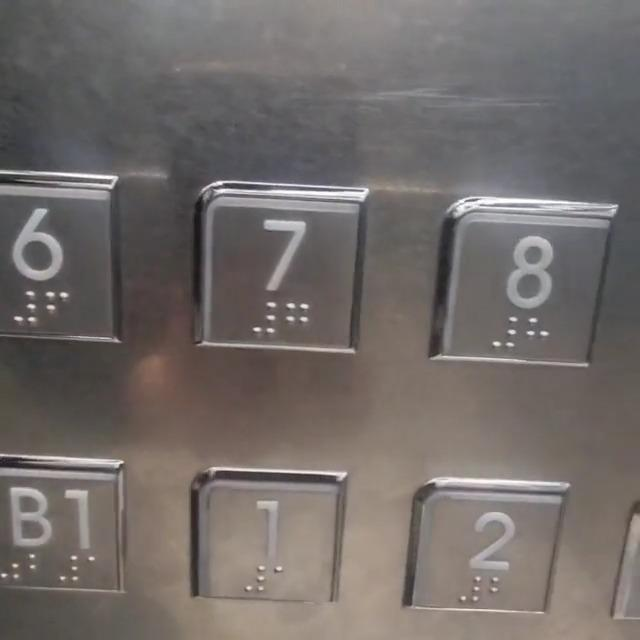button: (452, 198, 623, 368), (200, 183, 358, 364), (0, 174, 123, 342), (408, 478, 555, 616), (191, 471, 338, 600), (0, 458, 124, 595)
